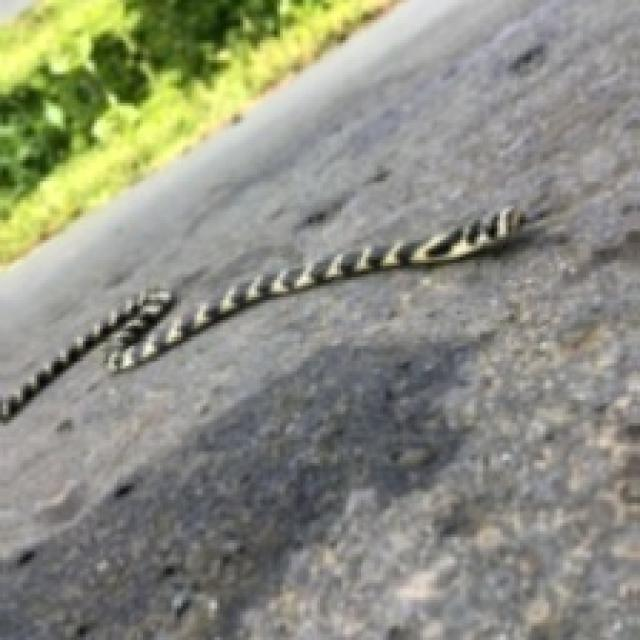king cobra: (0, 206, 543, 420)
